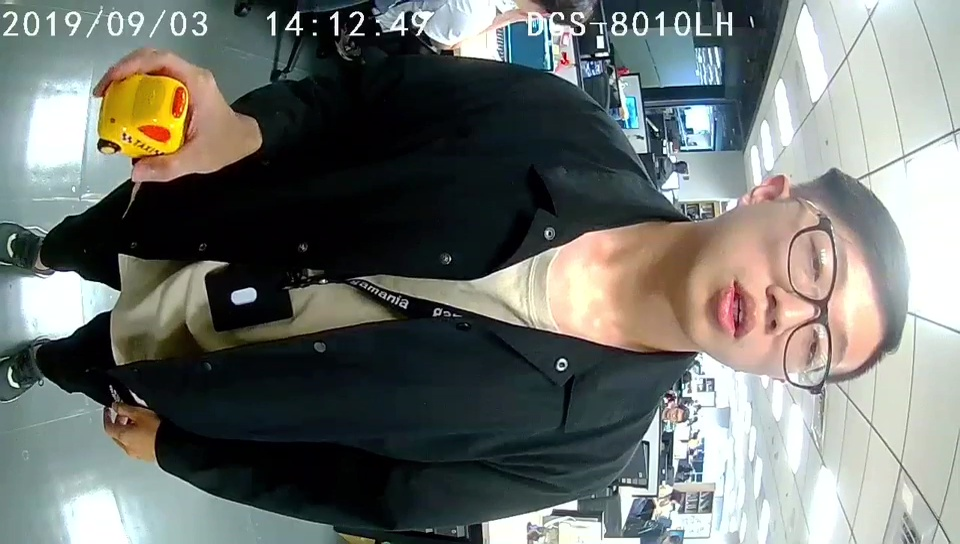car: (97, 73, 186, 159)
